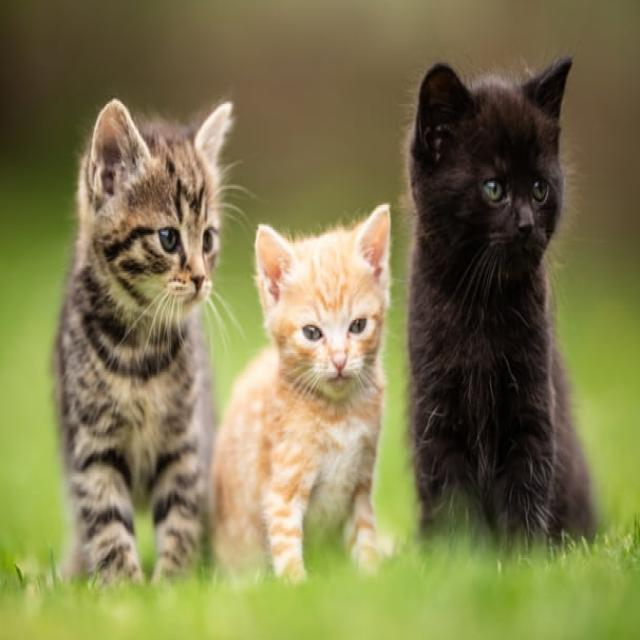cats: (415, 45, 611, 552), (75, 100, 226, 572), (247, 205, 395, 570)
